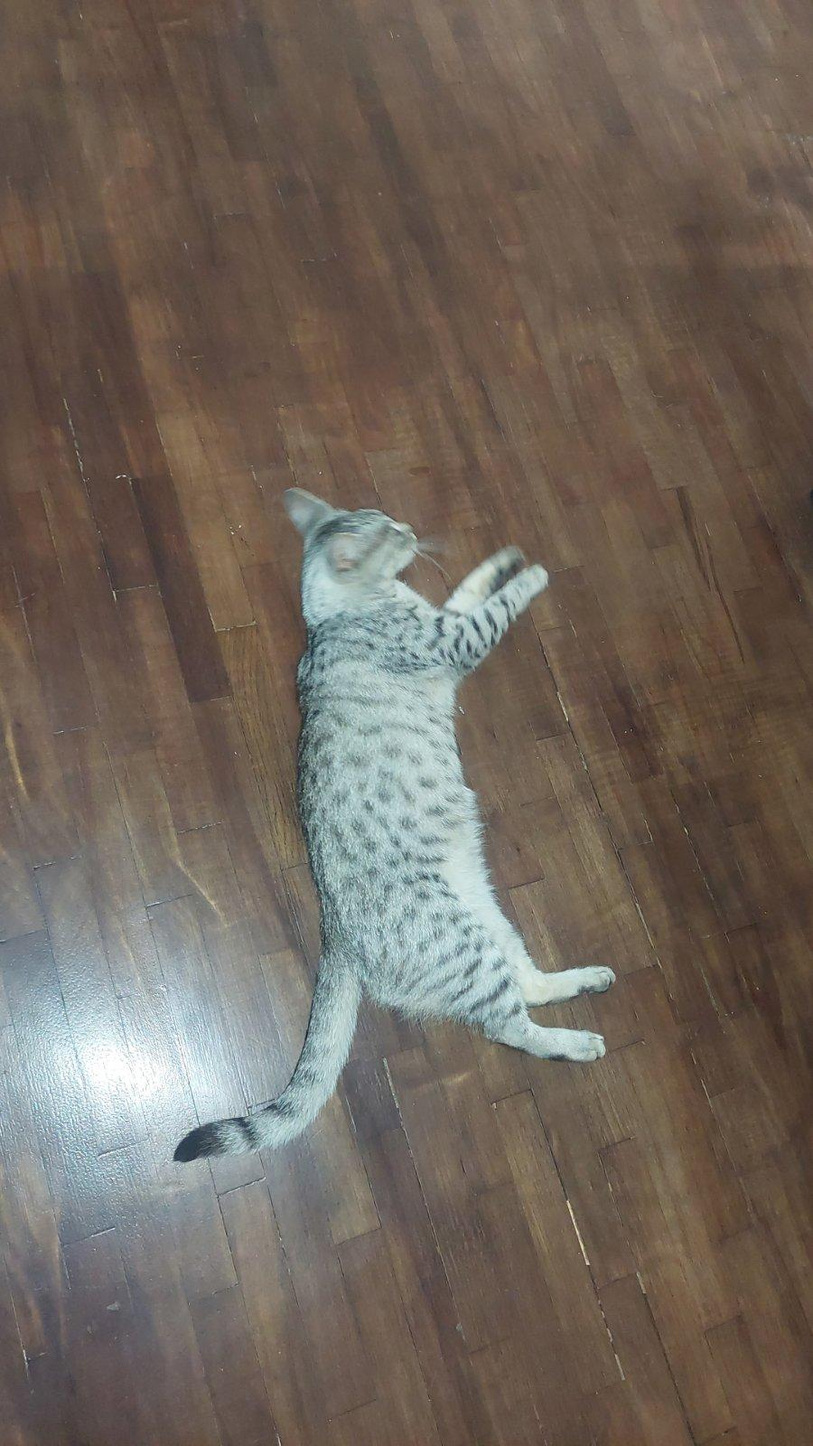macka: (171, 484, 620, 1165)
